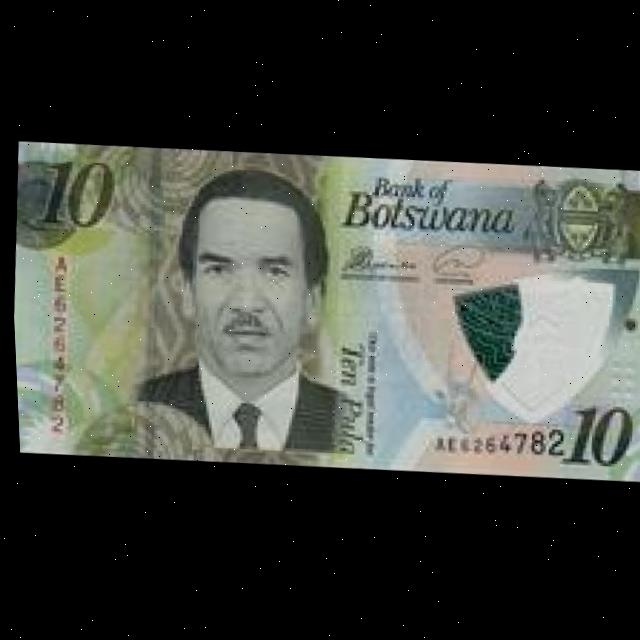banknote: (5, 127, 640, 496)
